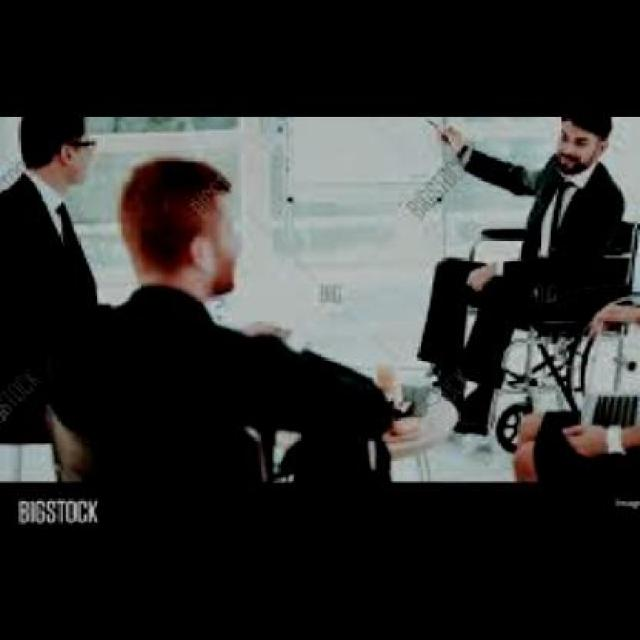wheelchairs: (459, 224, 640, 445)
